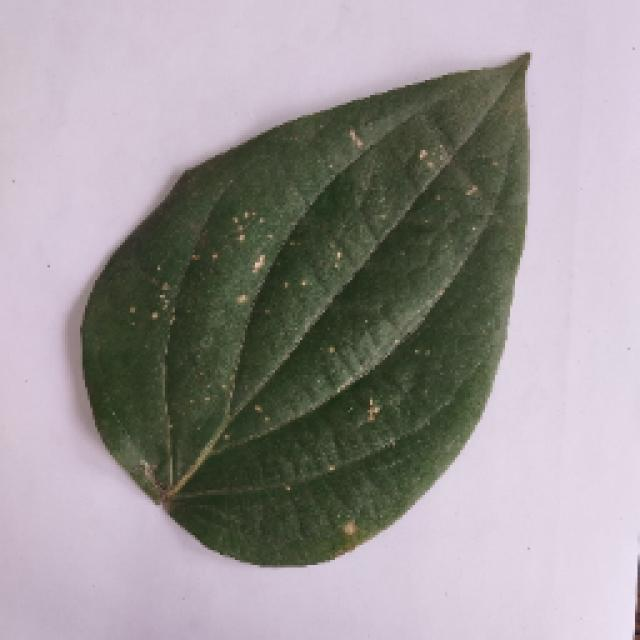pollu-disease: (55, 57, 583, 575)
